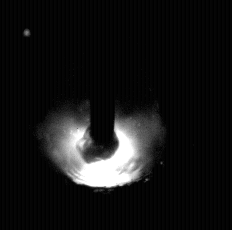arame: (85, 0, 120, 163)
poca: (46, 0, 165, 230)
